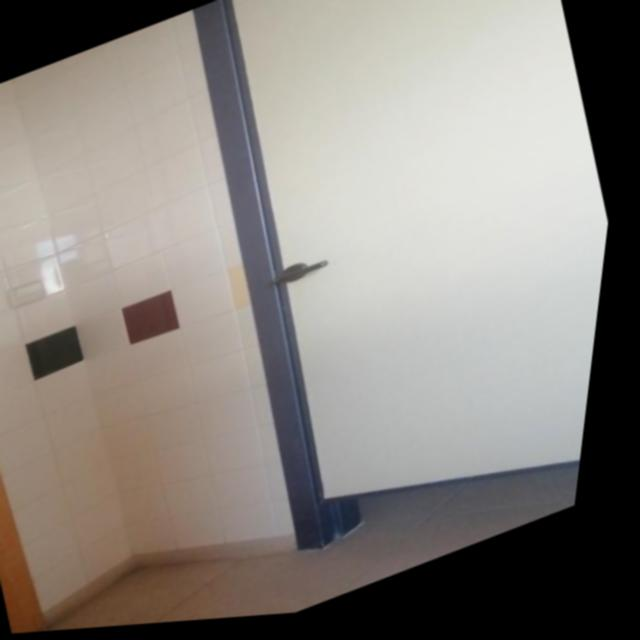door_handle: (277, 261, 339, 293)
